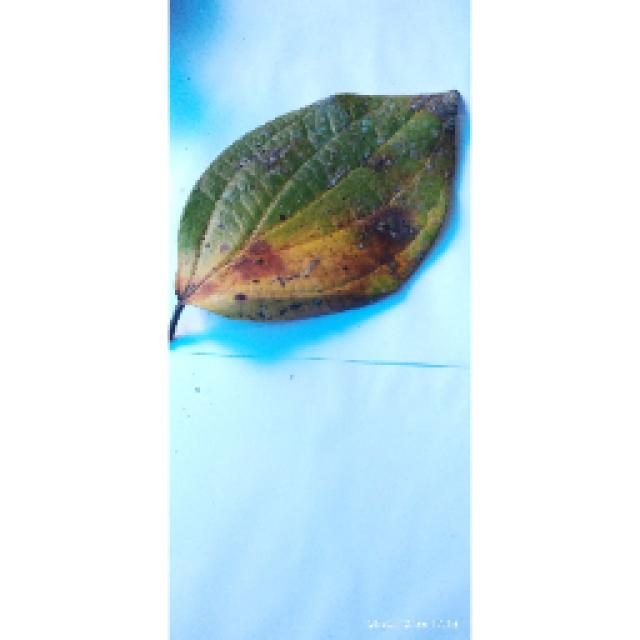slow-decline: (160, 82, 460, 340)
